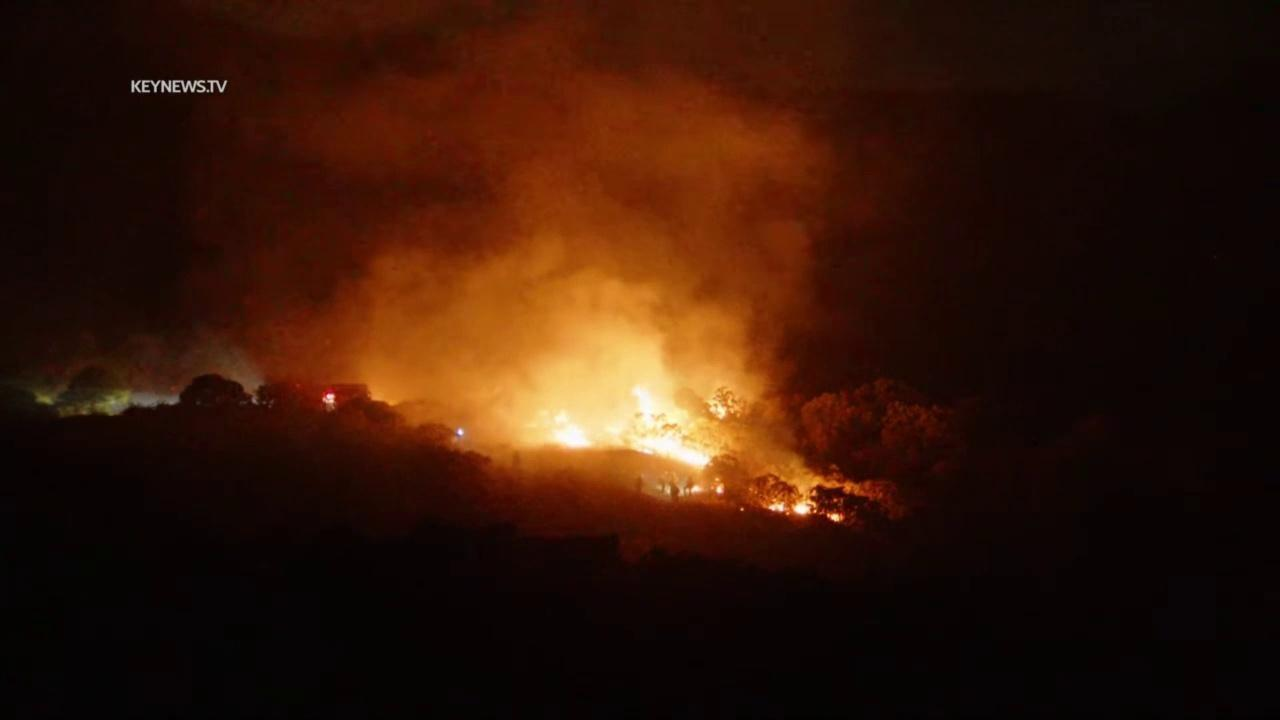fire: (628, 386, 714, 469), (550, 407, 594, 451), (766, 495, 818, 516), (710, 400, 728, 419), (826, 512, 846, 523), (714, 483, 725, 495), (739, 506, 746, 513)
smoke: (127, 0, 956, 478)
